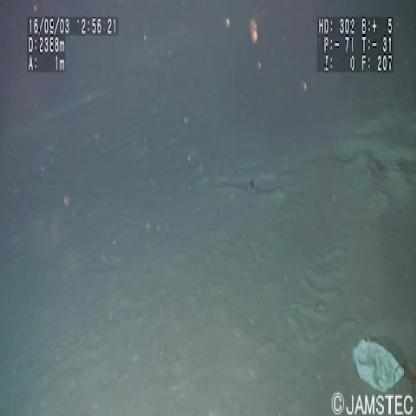Rác: (350, 335, 407, 394)
